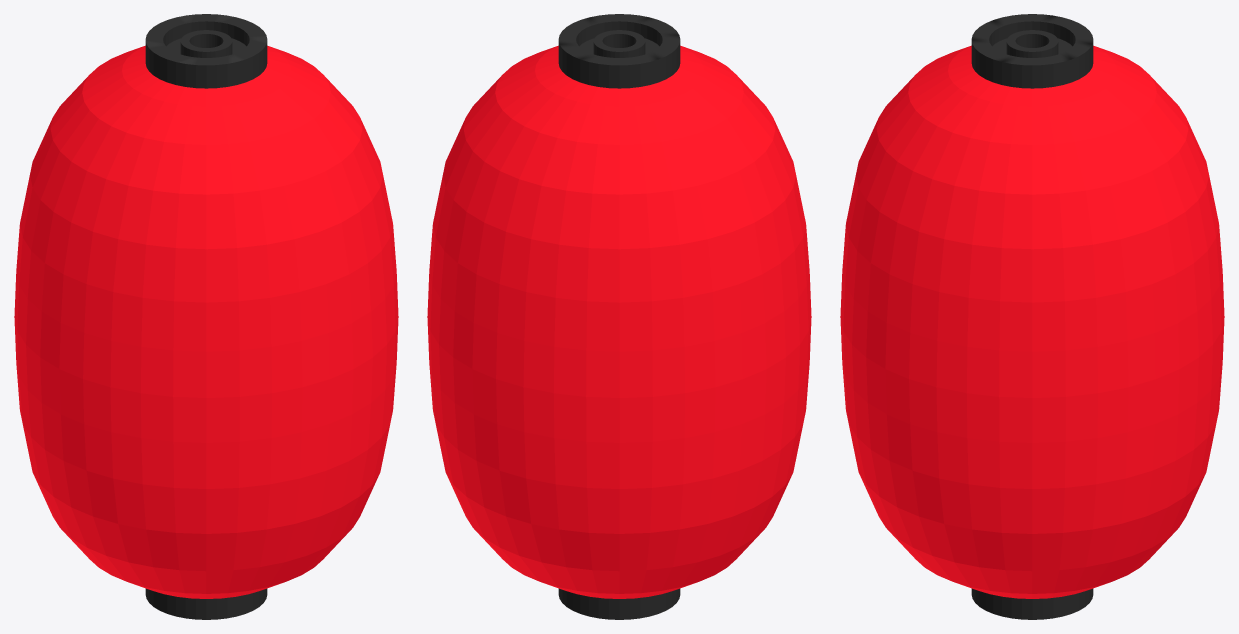
Rendered from lantern.fbx.
3 renders of one model, left to right at view 1: azimuth 30°, elevation 25°; view 2: azimuth 150°, elevation 25°; view 3: azimuth 270°, elevation 25°, orthographic.
Visible parts, largest first — view 1: Sphere, Sphere.001; view 2: Sphere, Sphere.001; view 3: Sphere, Sphere.001.
Part boxes in pixels (x1,y1,x2,y2): Sphere: [14, 45, 398, 598]; Sphere.001: [145, 14, 267, 619]; Sphere: [427, 45, 811, 598]; Sphere.001: [558, 14, 680, 619]; Sphere: [840, 45, 1224, 598]; Sphere.001: [971, 14, 1093, 619].
Bounding box in the file's own units: 197 × 313 × 197.
